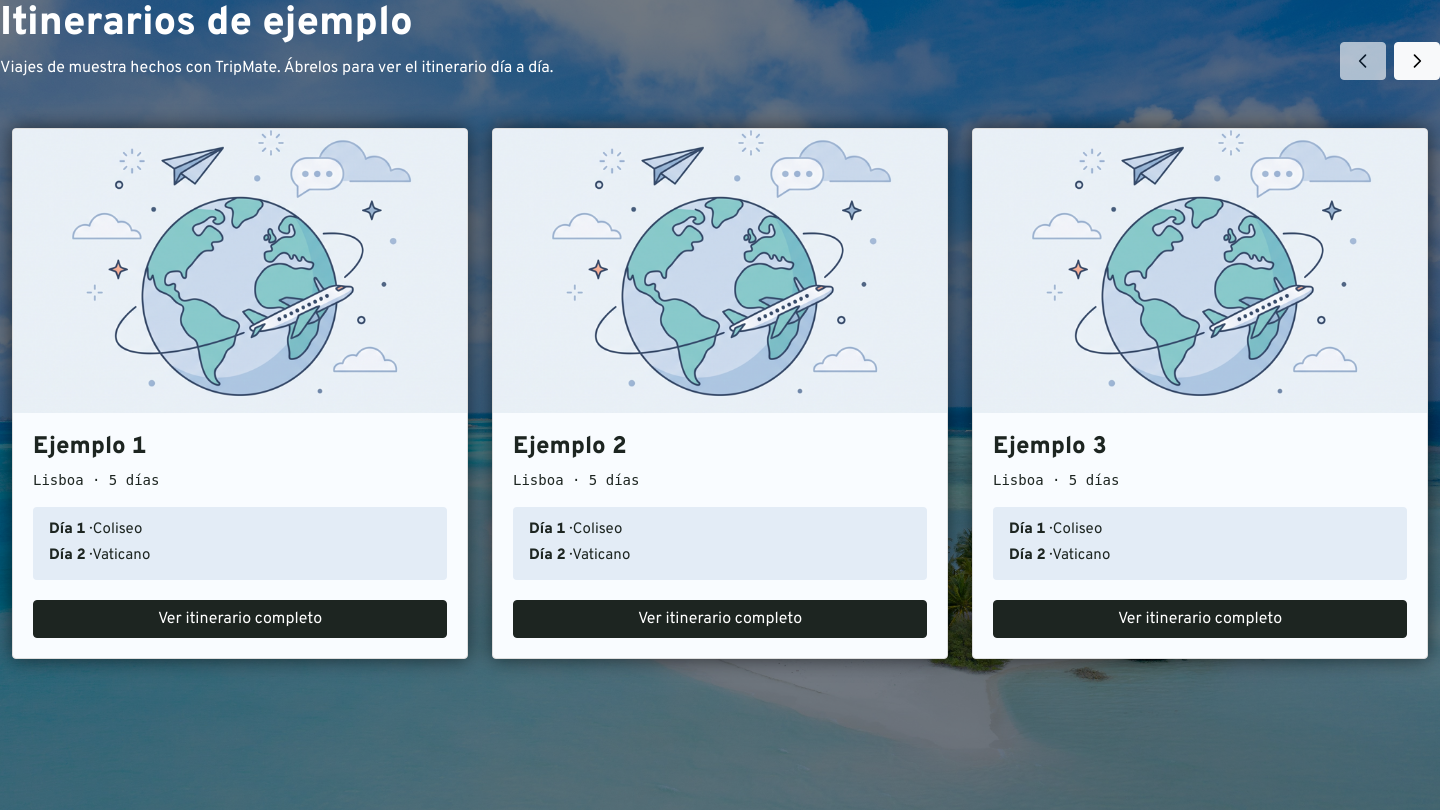
it: B1 ExampleTrips › keeps the buttons while the next page loads
Expected: the heading "Ejemplo 1" is shown, [33, 432, 147, 462]
Click the button named "Ejemplos siguientes" at (1417, 61), box [1394, 42, 1439, 80]
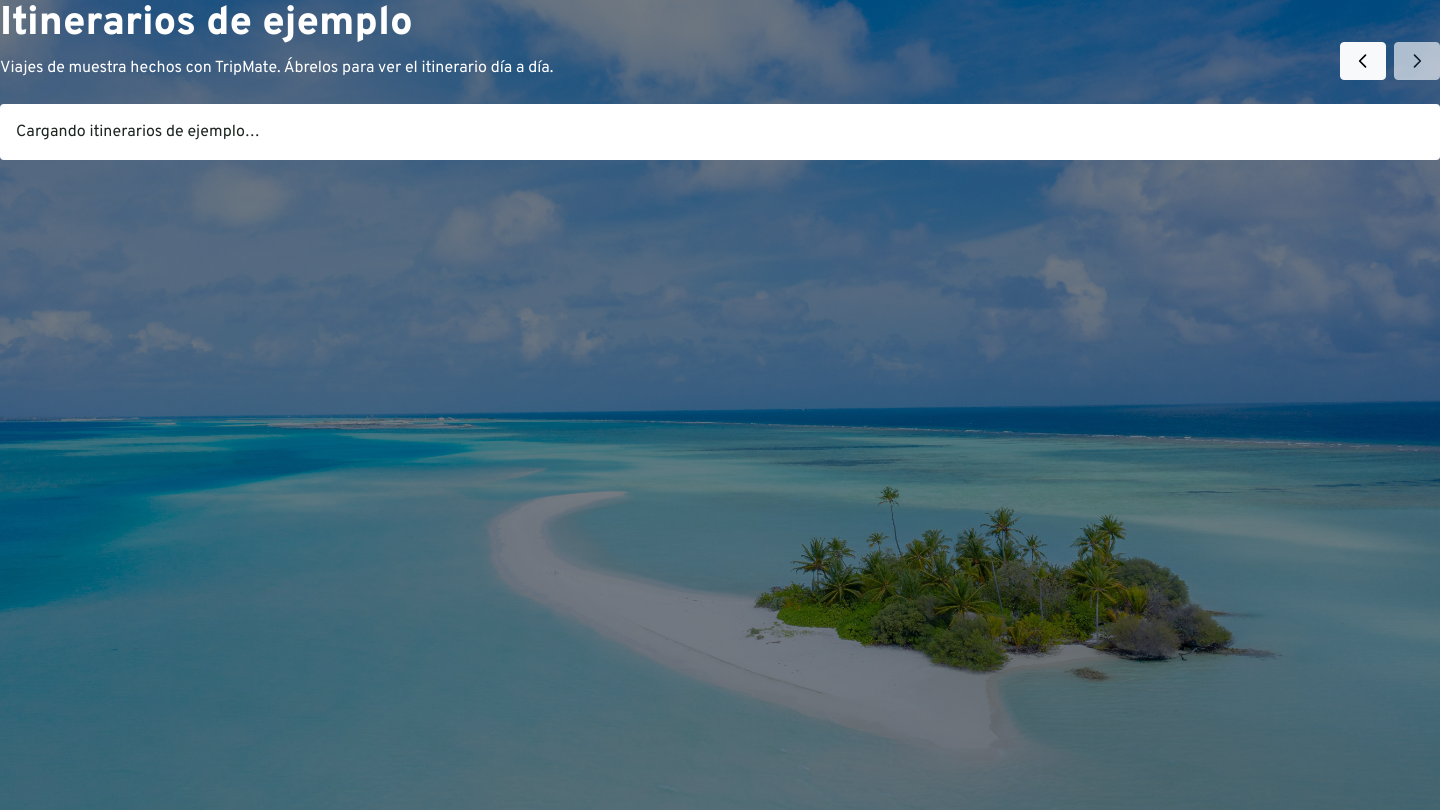
Now the message "Cargando itinerarios de ejemplo…" is shown, box [0, 104, 1439, 160]
Now the button named "Ejemplos anteriores" is enabled, box [1340, 42, 1386, 80]
Now the button named "Ejemplos siguientes" is disabled, box [1394, 42, 1439, 80]
